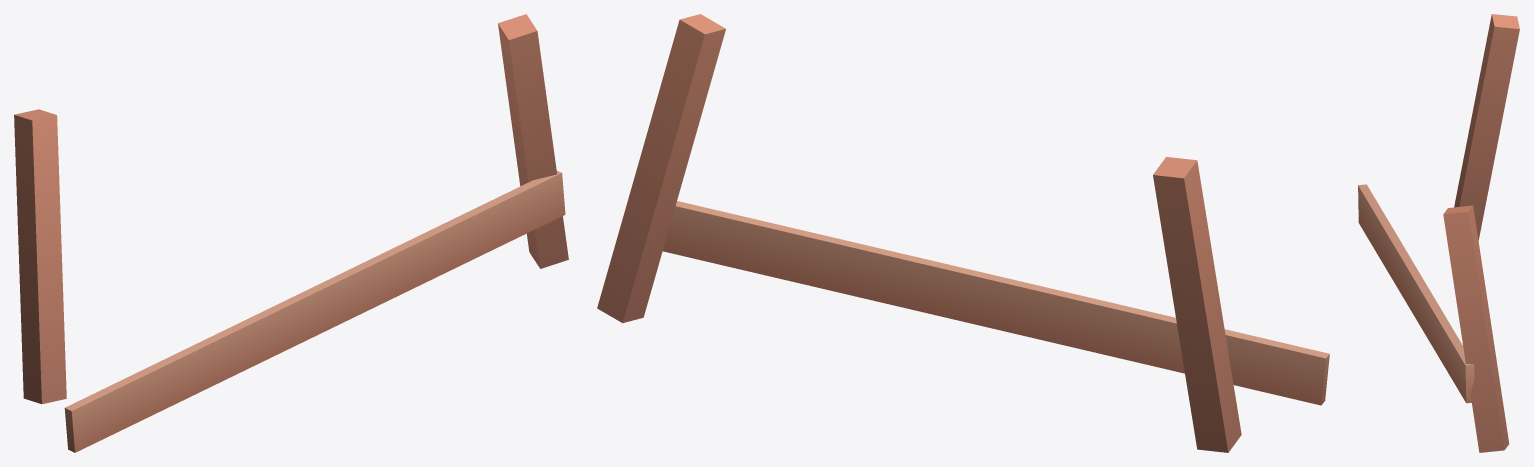
File: [OBJ]Cerca_Ruina1.fbx
3 renders of one model, left to right at view 1: azimuth 30°, elevation 25°; view 2: azimuth 150°, elevation 25°; view 3: azimuth 270°, elevation 25°, orthographic. The views are drawn at different scales.
Visible parts, largest first — view 1: [OBJ]Cerca_Ruina1.001; view 2: [OBJ]Cerca_Ruina1.001; view 3: [OBJ]Cerca_Ruina1.001.
Boxes of the visible parts, x1,y1,x2,y2 form: [OBJ]Cerca_Ruina1.001: (14,14,568,452); [OBJ]Cerca_Ruina1.001: (597,14,1329,452); [OBJ]Cerca_Ruina1.001: (1358,14,1519,452).
Size of the model in its own units: 164 by 73.25 by 47.54.
